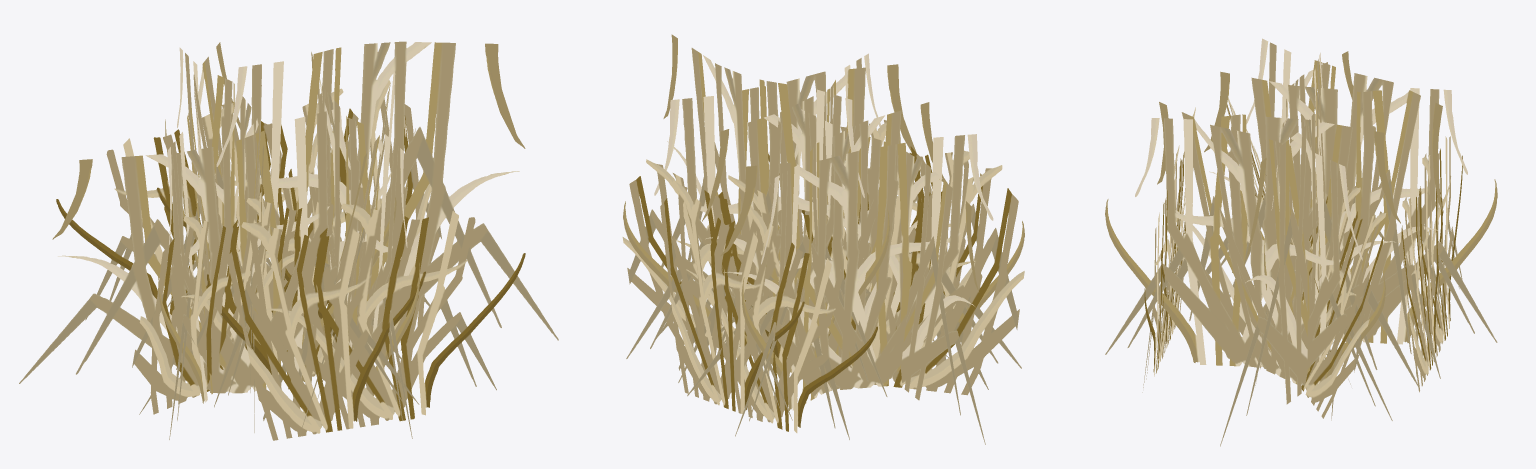
The model's file is PT_Wheat_01_stubble.fbx.
The picture shows the model from 3 angles, left to right: view 1: azimuth 30°, elevation 25°; view 2: azimuth 150°, elevation 25°; view 3: azimuth 270°, elevation 25°; orthographic projection. The views are drawn at different scales.
Parts seen in each view (by area): view 1: PT_Wheat_01_stubble_LOD0; view 2: PT_Wheat_01_stubble_LOD0; view 3: PT_Wheat_01_stubble_LOD0.
Part boxes in pixels (left/top/right/bottom): PT_Wheat_01_stubble_LOD0: left=19, top=41, right=558, bottom=440; PT_Wheat_01_stubble_LOD0: left=622, top=34, right=1024, bottom=444; PT_Wheat_01_stubble_LOD0: left=1105, top=38, right=1497, bottom=446.
Size of what is drawn, in the model's own units: 52.37 by 33.16 by 46.31.
